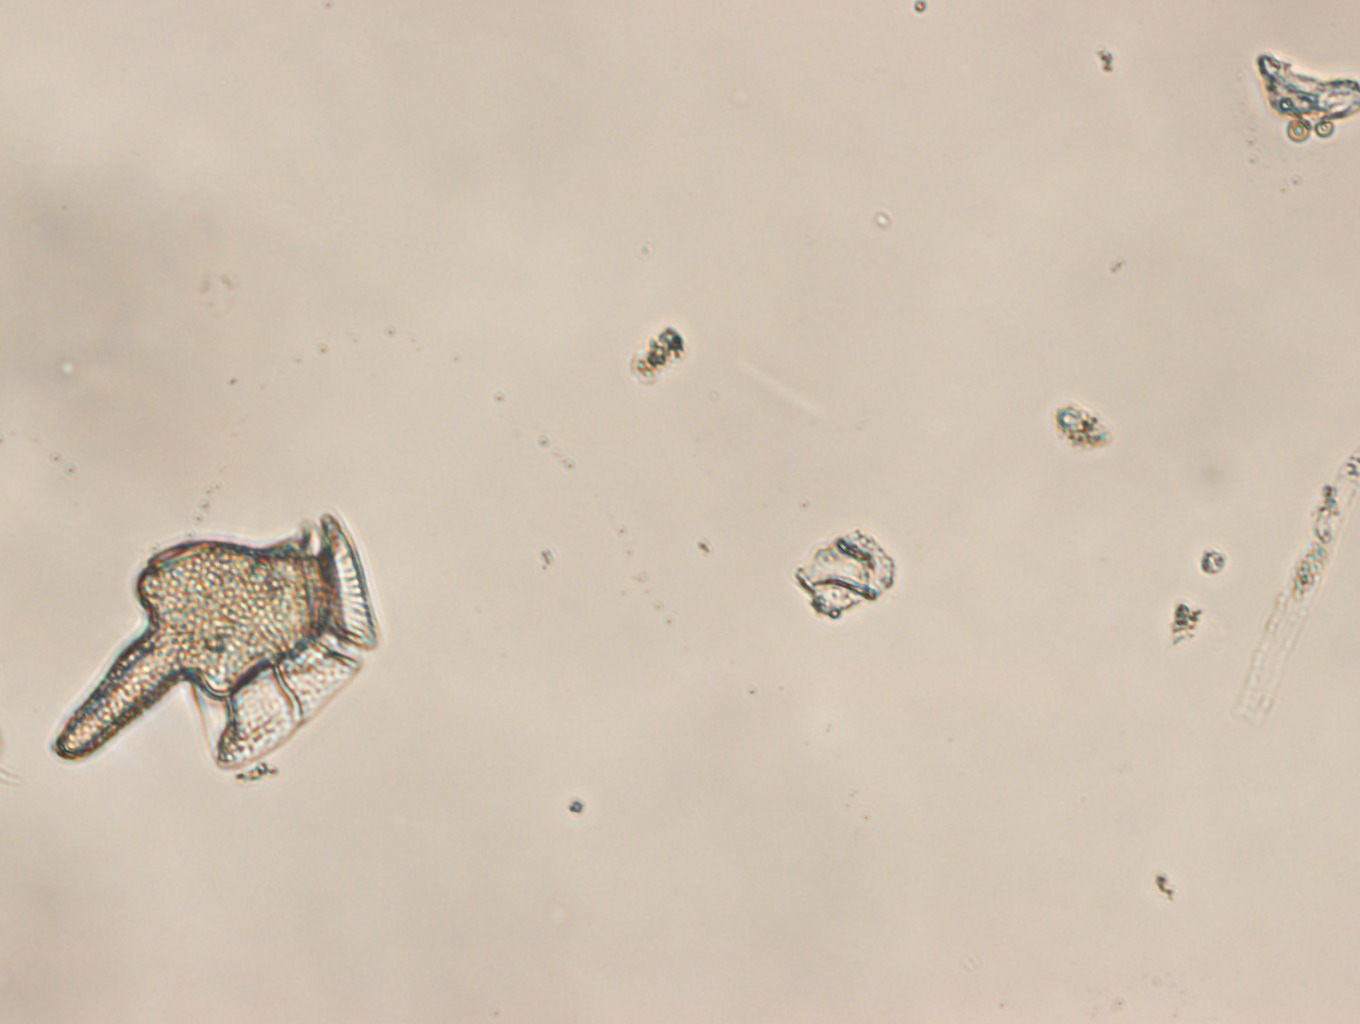dinophysis caudata: (51, 511, 381, 773)
